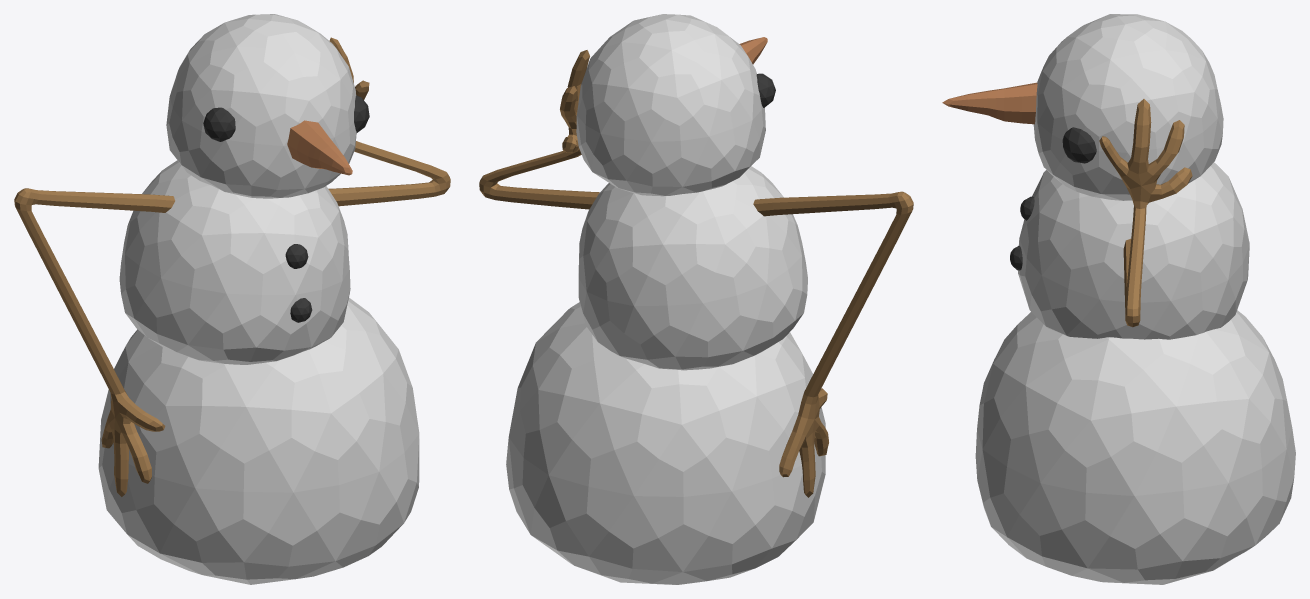
File: Snowman.glb
3 renders of one model, left to right at view 1: azimuth 30°, elevation 25°; view 2: azimuth 150°, elevation 25°; view 3: azimuth 270°, elevation 25°, orthographic.
Visible parts, largest first — view 1: Snowman; view 2: Snowman; view 3: Snowman.
Boxes of the visible parts, x1,y1,x2,y2 form: Snowman: (14, 14, 450, 584); Snowman: (479, 14, 913, 584); Snowman: (942, 14, 1295, 584).
Bounding box in the file's own units: 3.01 × 3.6 × 2.13.
